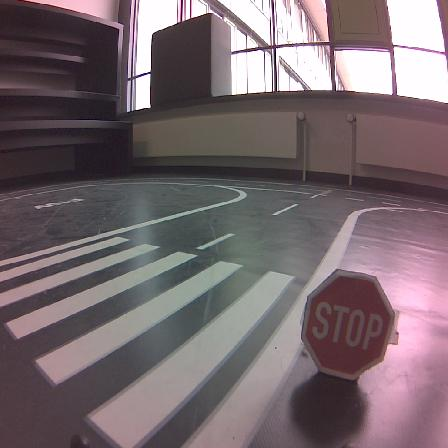STOP: (302, 270, 394, 379)
